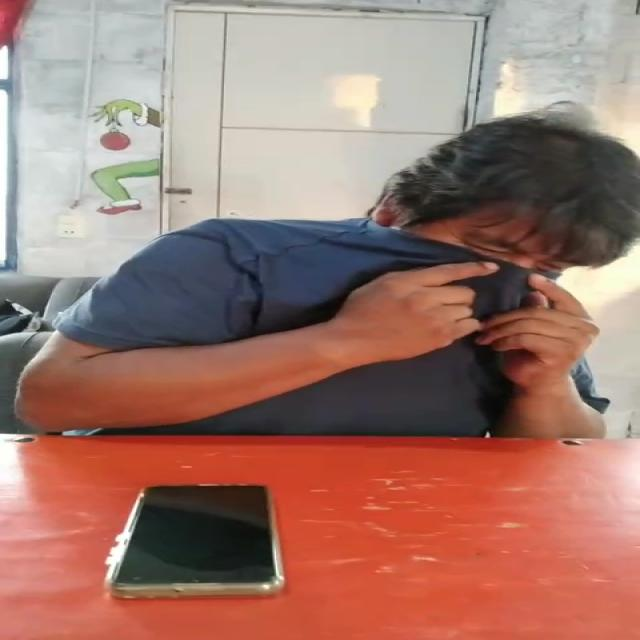8_ropa_rostro: (318, 216, 579, 383)
